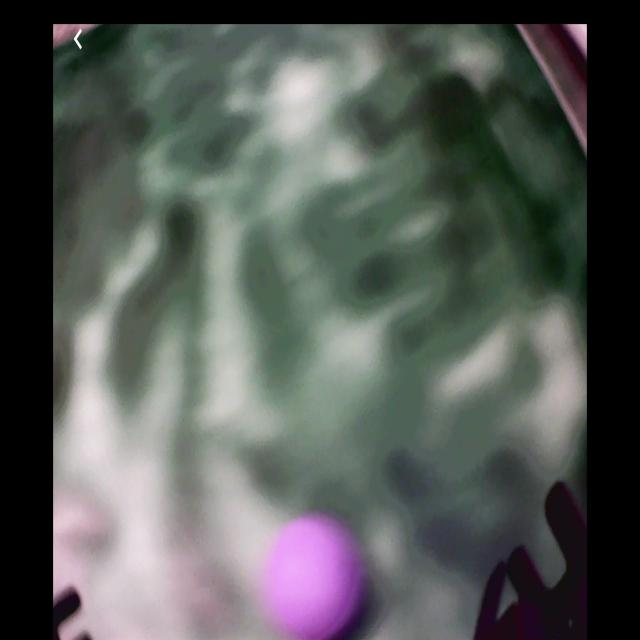ball: (271, 513, 359, 640)
